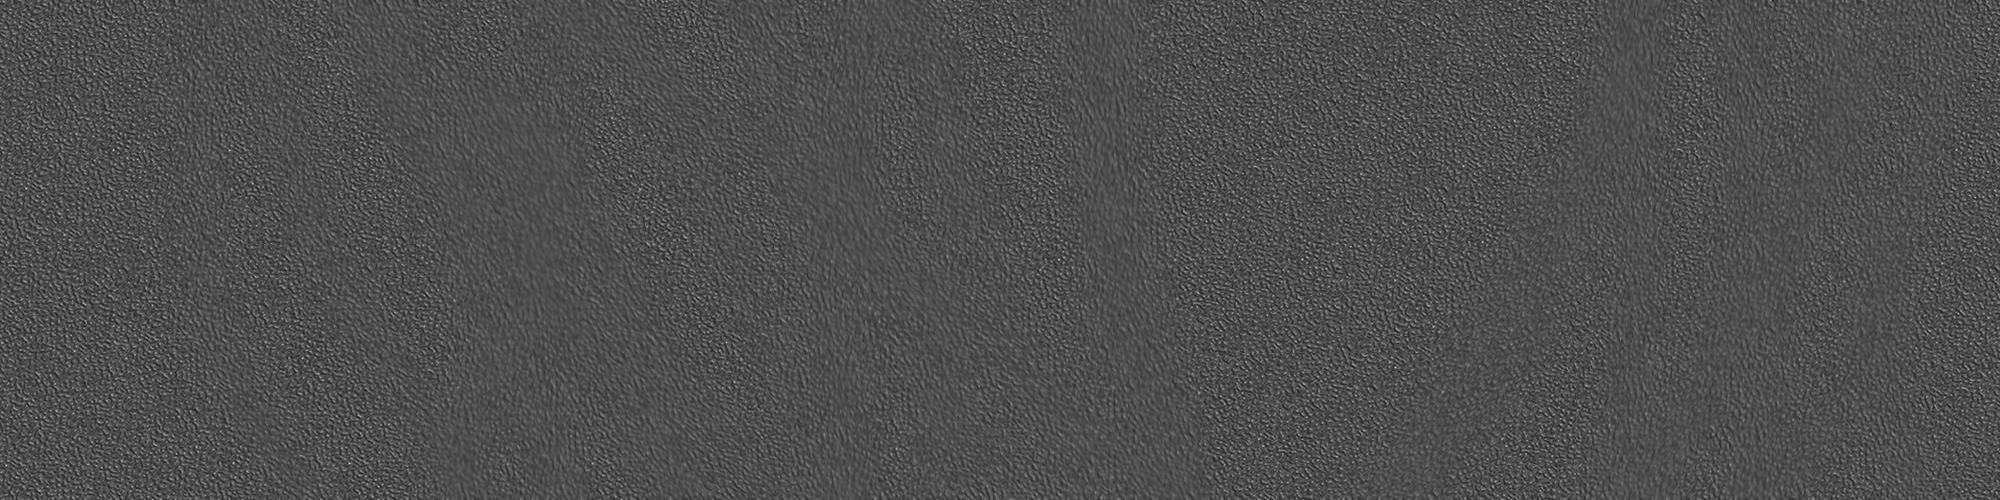Flow_Lines: (370, 48, 594, 477), (1043, 51, 1186, 494), (1541, 47, 1652, 207), (1541, 47, 1587, 62), (1541, 32, 1569, 47)
